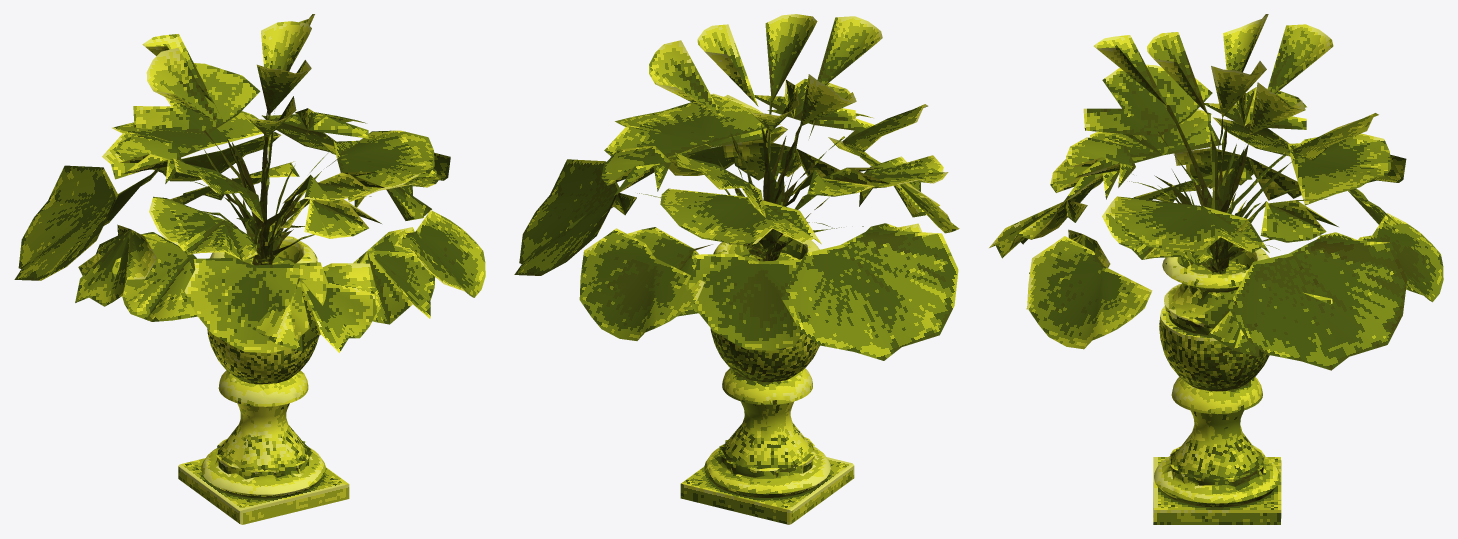
The model's file is asagao_pot.glb.
3 renders of one model, left to right at view 1: azimuth 30°, elevation 25°; view 2: azimuth 150°, elevation 25°; view 3: azimuth 270°, elevation 25°, orthographic.
Visible parts, largest first — view 1: mesh; view 2: mesh; view 3: mesh.
Part boxes in pixels (<box>): mesh: <box>14,14,485,524</box>; mesh: <box>514,14,959,524</box>; mesh: <box>989,14,1443,524</box>.
Bounding box in the file's own units: 0.7869 × 0.81 × 0.7359.
1 material, 1 textured.
